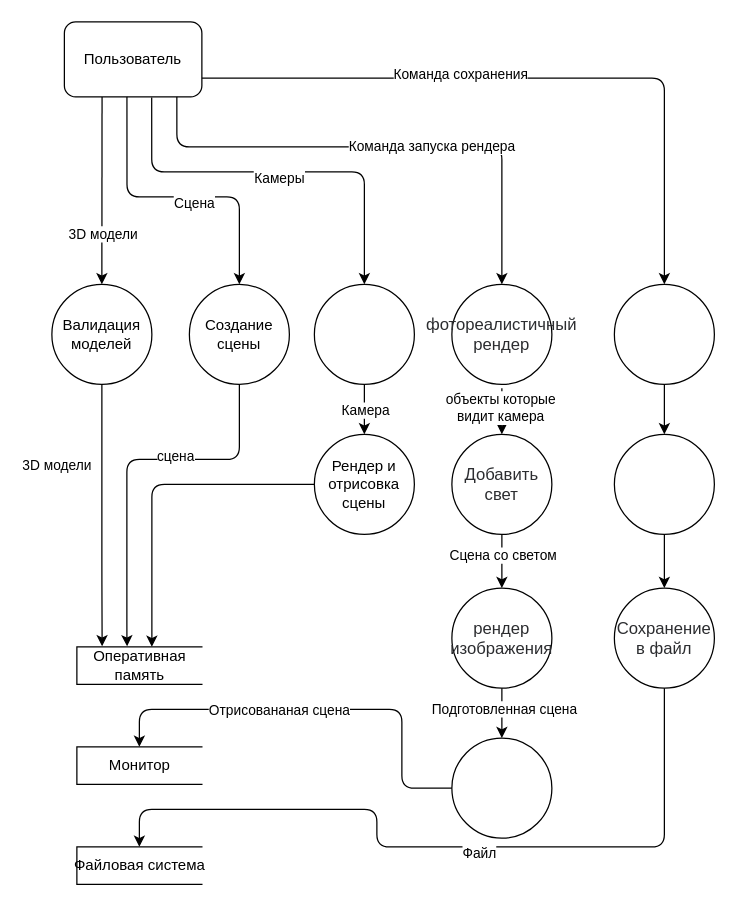
Image size: 736x906. Some labels were removed from this diagram. The shapes that lost their labels are listed below. From the top down, each one's centre as x and y in pixels, then its label:
At [363,333]: "Добавление камеры".
At [663,333]: "Рендер сцены".
At [663,483]: "Конвертация в формат сохранения".
At [501,787]: "Передача на экран".
